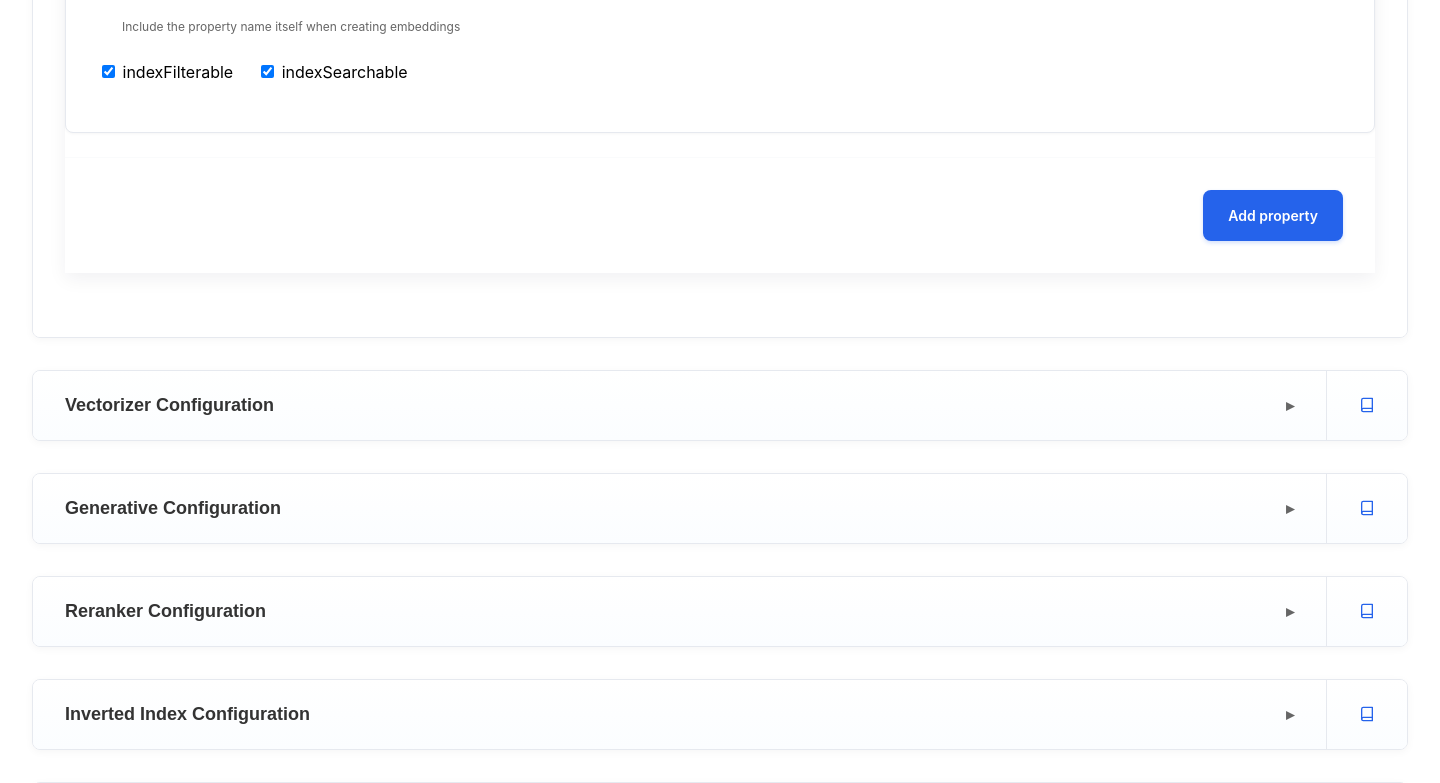
Test case: Collection - Quantization Import Tests › should import HNSW with PQ quantization and render it correctly in the form
(page scrolled)
# Expand vector config section
Step 1. Click the button "Vectorizer Configuration ▸" → click(170, 405), box [33,371,1326,440]
(page scrolled)
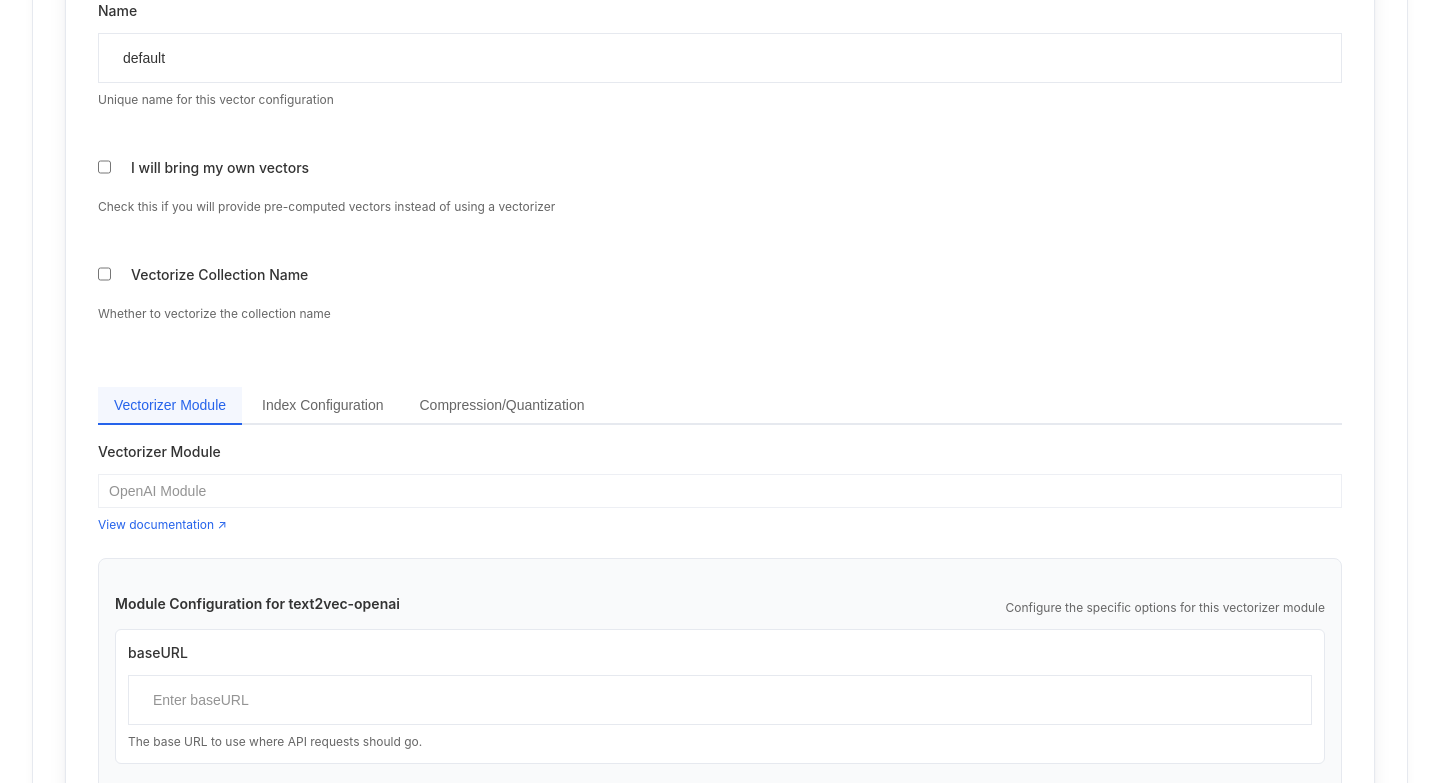
# Click on Compression/Quantization tab
Step 2. Click the button "Compression/Quantization" → click(502, 406), box [404,386,600,424]
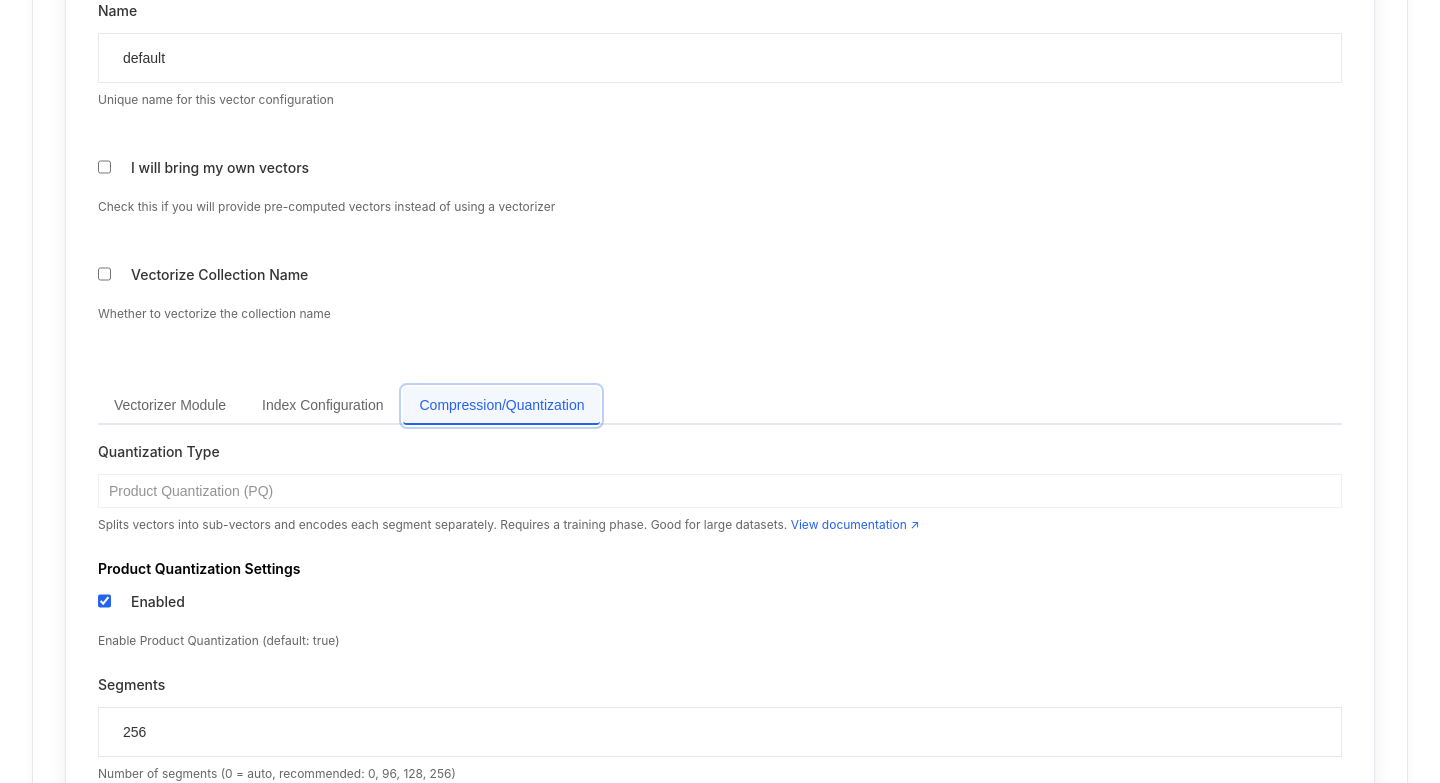
Check: the dropdown labelled "Quantization Type" shows "Product Quantization (PQ)", box [98,474,1342,508]
